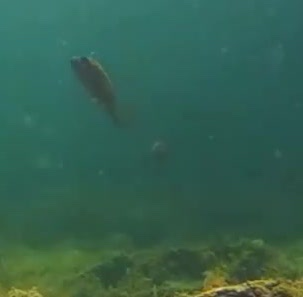smallfish: (60, 58, 127, 124)
